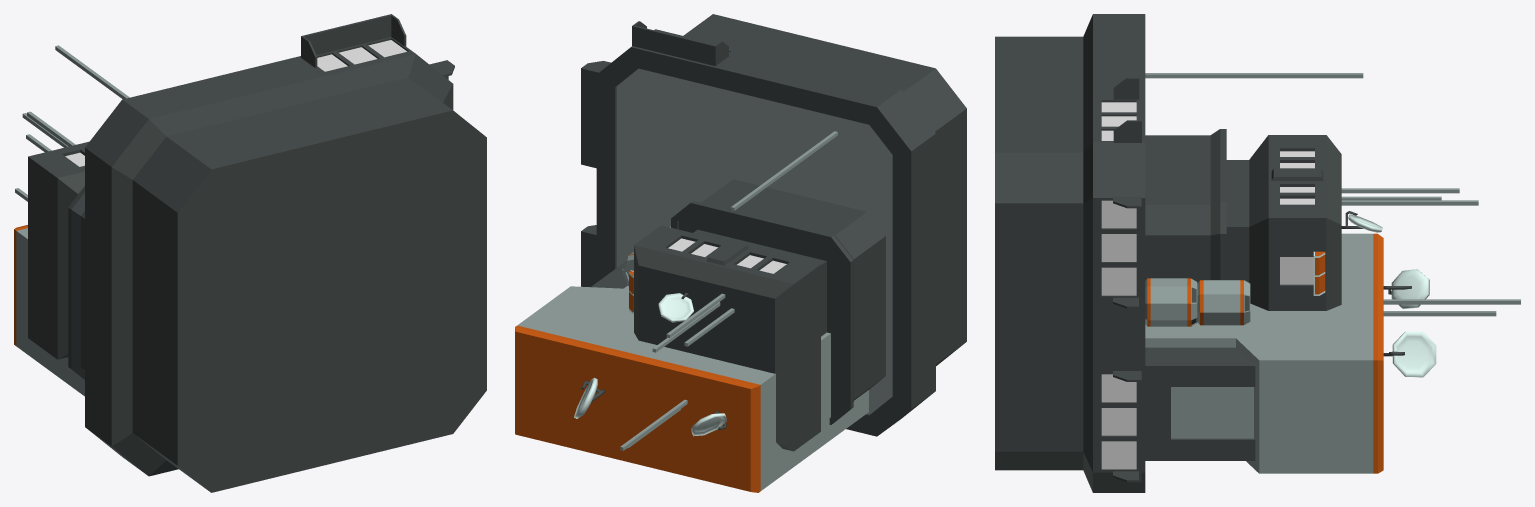
Rendered from Building_Residential.fbx.
The picture shows the model from 3 angles, left to right: view 1: azimuth 30°, elevation 25°; view 2: azimuth 150°, elevation 25°; view 3: azimuth 270°, elevation 25°; orthographic projection. The views are drawn at different scales.
Parts seen in each view (by area): view 1: Building_Residential; view 2: Building_Residential; view 3: Building_Residential.
Boxes of the visible parts, x1,y1,x2,y2 form: Building_Residential: [14, 14, 486, 492]; Building_Residential: [515, 14, 966, 492]; Building_Residential: [995, 14, 1520, 492].
Bounding box in the file's own units: 1.25 × 1.26 × 1.61.
